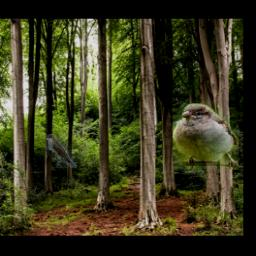Cuckoo: (46, 134, 77, 168)
Sparrow: (173, 103, 239, 170)
